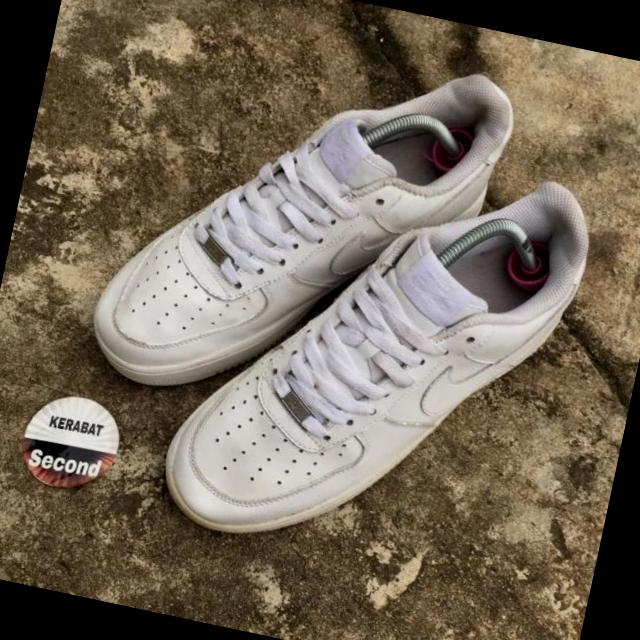nike_original_airforce: (150, 112, 610, 596), (71, 11, 522, 456)
